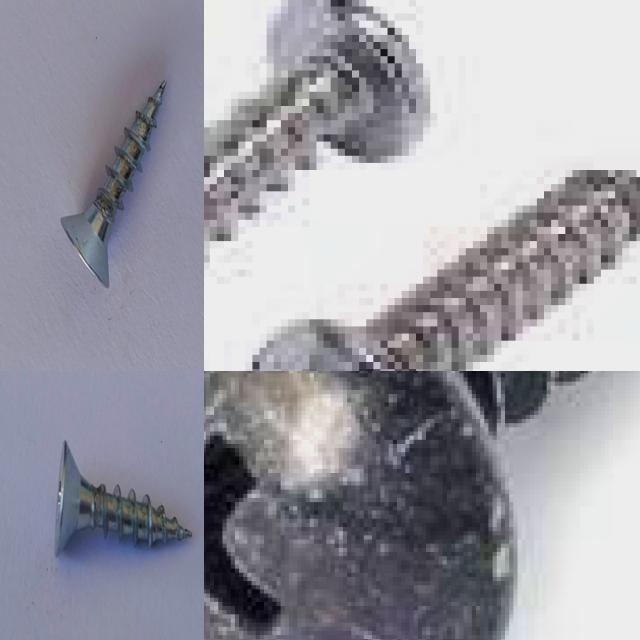Screw: (204, 371, 598, 640), (250, 170, 640, 371), (204, 0, 430, 258), (61, 80, 166, 287), (54, 440, 192, 554)
